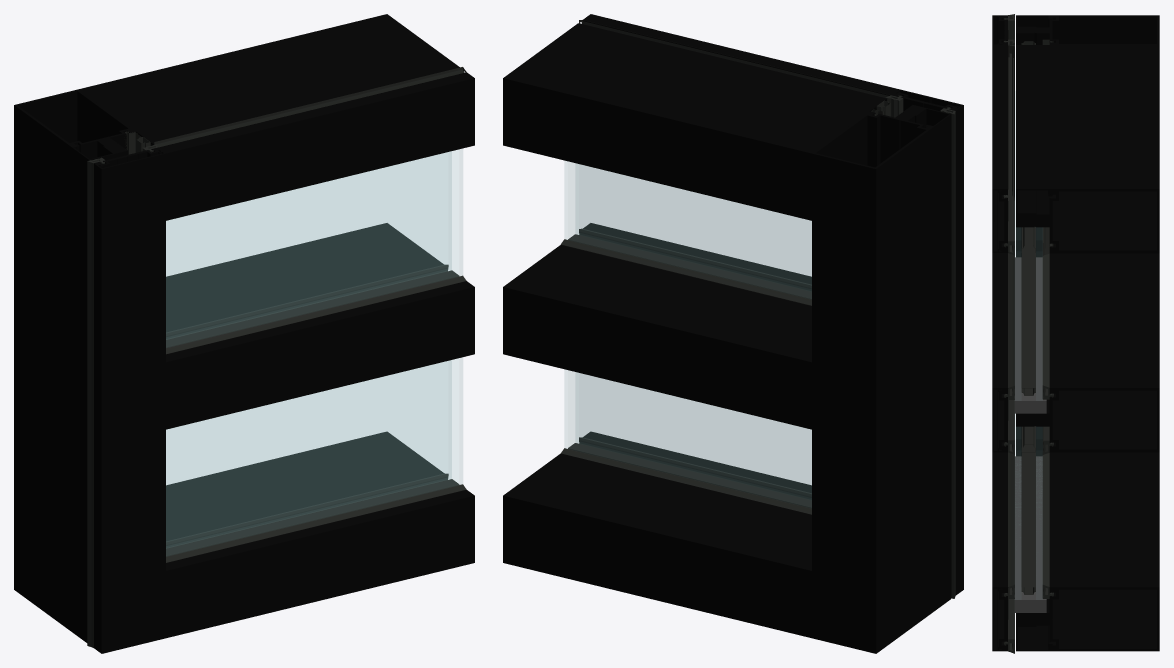
The model's file is CW250 3.875 BK Struct.glb.
3 views of the same model, side by side, from view 1: azimuth 30°, elevation 25°; view 2: azimuth 150°, elevation 25°; view 3: azimuth 270°, elevation 25° (orthographic). The views are drawn at different scales.
Parts seen in each view (by area): view 1: 0_curve_.001, 0_curve_.005, 0_curve_.004, 0_curve_.003, Cube, Cube.001; view 2: 0_curve_.001, 0_curve_.005, 0_curve_.004, 0_curve_.003, Cube.001, Cube; view 3: 0_curve_.005, 0_curve_.003, 0_curve_.004, 0_curve_.001, Cube, Cube.001.
Boxes of the visible parts, x1,y1,x2,y2 form: 0_curve_.001: [14, 89, 165, 653]; 0_curve_.005: [79, 14, 474, 220]; 0_curve_.004: [166, 223, 474, 429]; 0_curve_.003: [166, 431, 474, 638]; Cube: [166, 149, 462, 347]; Cube.001: [166, 358, 462, 555]; 0_curve_.001: [812, 89, 963, 653]; 0_curve_.005: [503, 14, 898, 220]; 0_curve_.004: [503, 223, 811, 429]; 0_curve_.003: [503, 431, 811, 638]; Cube.001: [565, 370, 811, 507]; Cube: [565, 161, 811, 298]; 0_curve_.005: [992, 42, 1159, 255]; 0_curve_.003: [992, 452, 1159, 653]; 0_curve_.004: [992, 253, 1159, 454]; 0_curve_.001: [992, 14, 1159, 456]; Cube: [1015, 91, 1042, 256]; Cube.001: [1015, 414, 1042, 507].
Size of the model in its own units: 0.3708 by 0.4623 by 0.1499.
